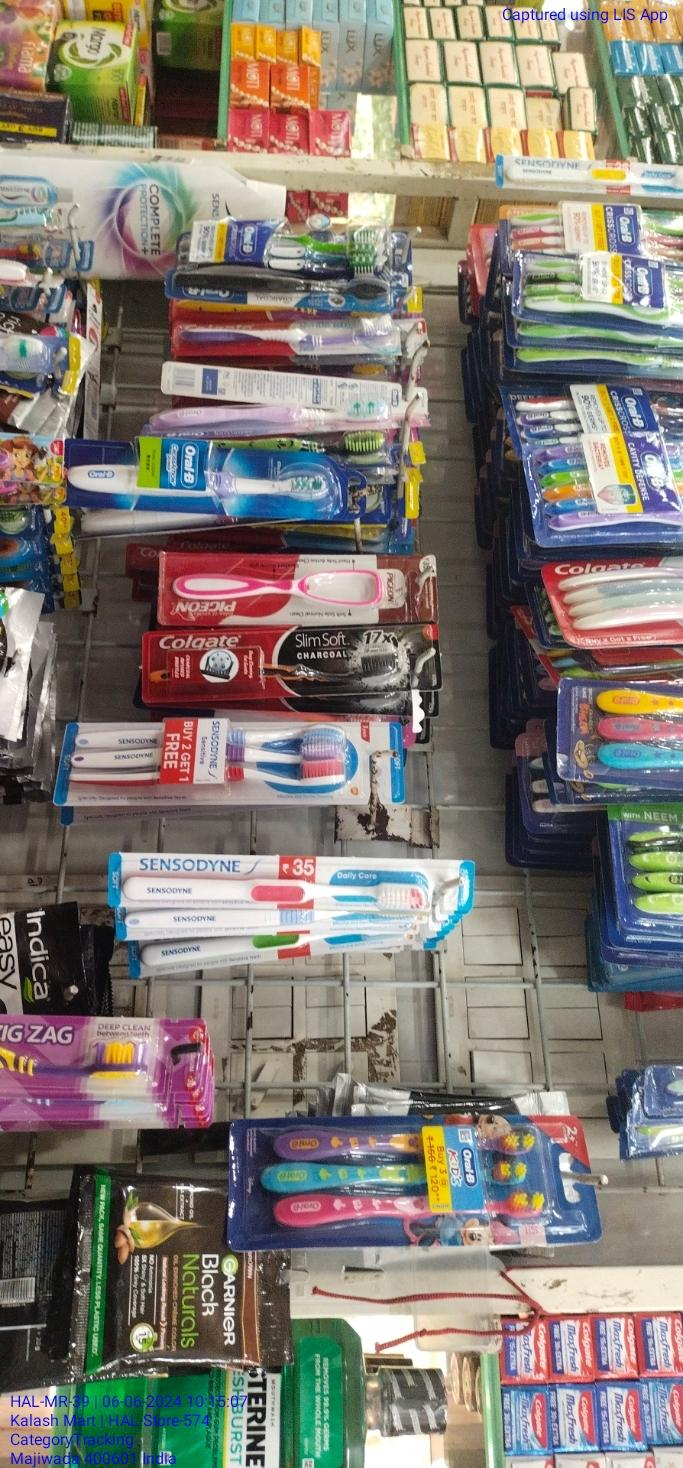15: (335, 607, 375, 1352)
soap: (291, 526, 328, 1163)
